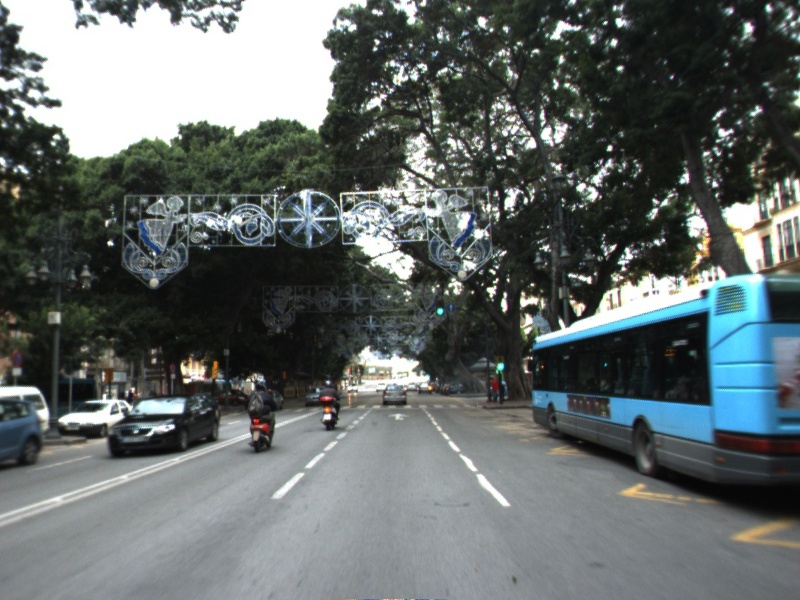STRAIGHT: (387, 411, 411, 422)
